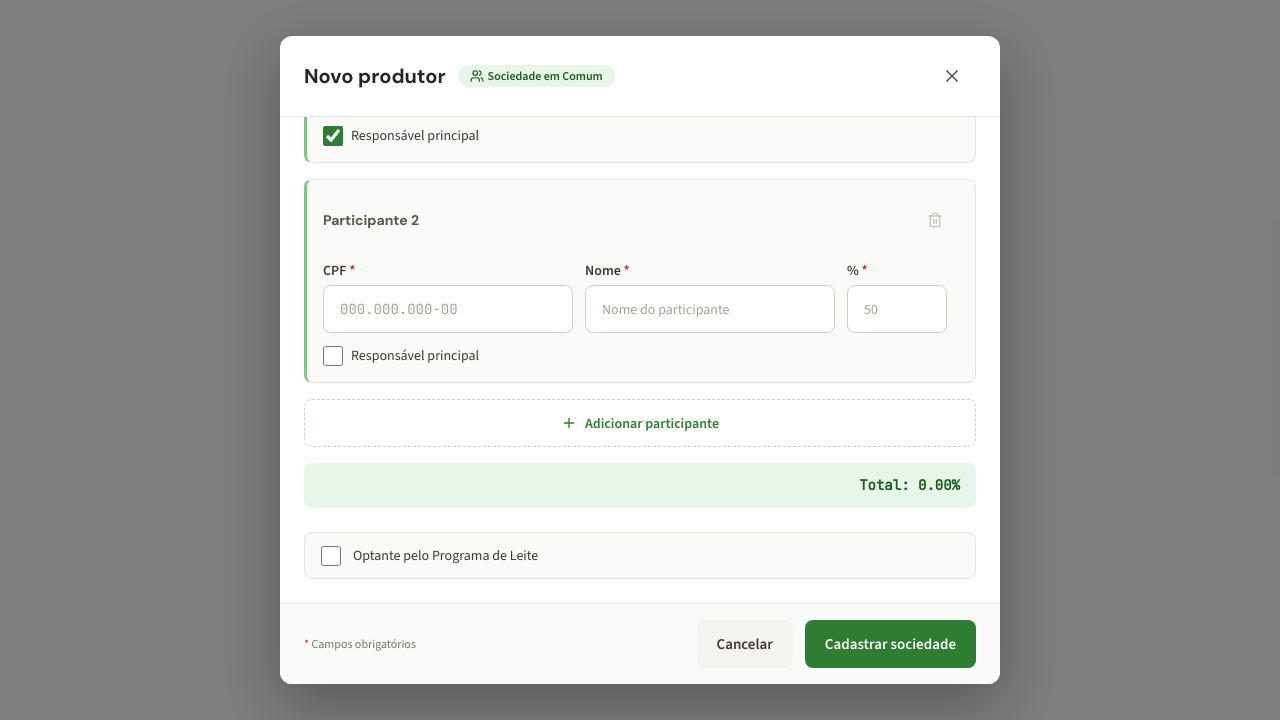
Test: ProducerSCFormModal › should add a participant when clicking add button
(page scrolled)
Click the button "Adicionar participante".
click(640, 423)  # box [304, 399, 976, 447]
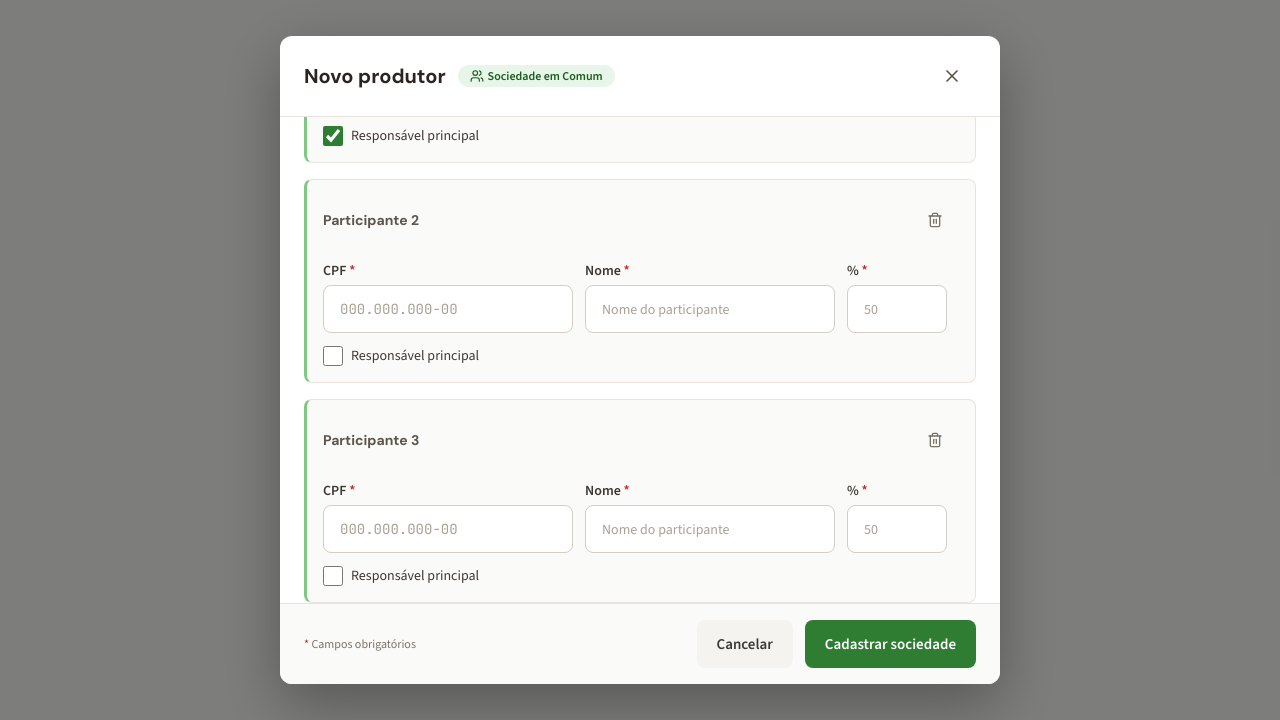
Check: the text "Participante 3" is shown, box [323, 430, 419, 450]
